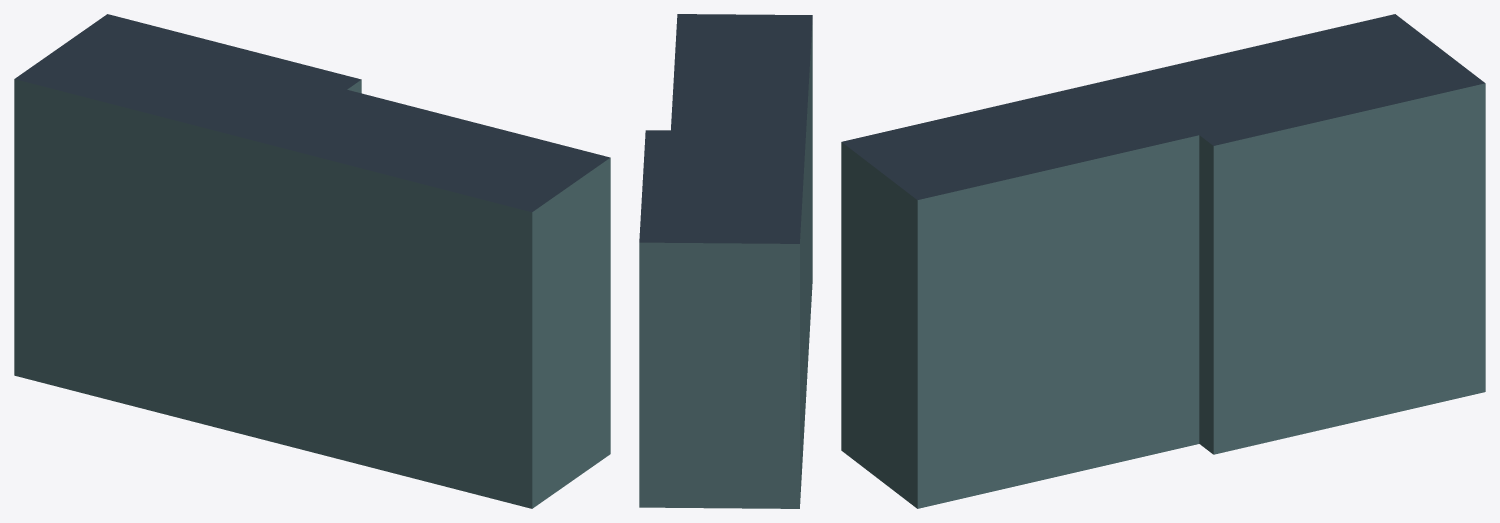
The model's file is nyc-1022612-0.glb.
3 renders of one model, left to right at view 1: azimuth 30°, elevation 25°; view 2: azimuth 150°, elevation 25°; view 3: azimuth 270°, elevation 25°, orthographic. The views are drawn at different scales.
Parts seen in each view (by area): view 1: nyc-1022612-0; view 2: nyc-1022612-0; view 3: nyc-1022612-0.
Boxes of the visible parts, box(x1,y1,x2,y2) form: nyc-1022612-0: box(14, 14, 610, 508); nyc-1022612-0: box(639, 14, 812, 508); nyc-1022612-0: box(841, 14, 1485, 508).
Size of the model in its own units: 42.97 by 33.22 by 62.81.
